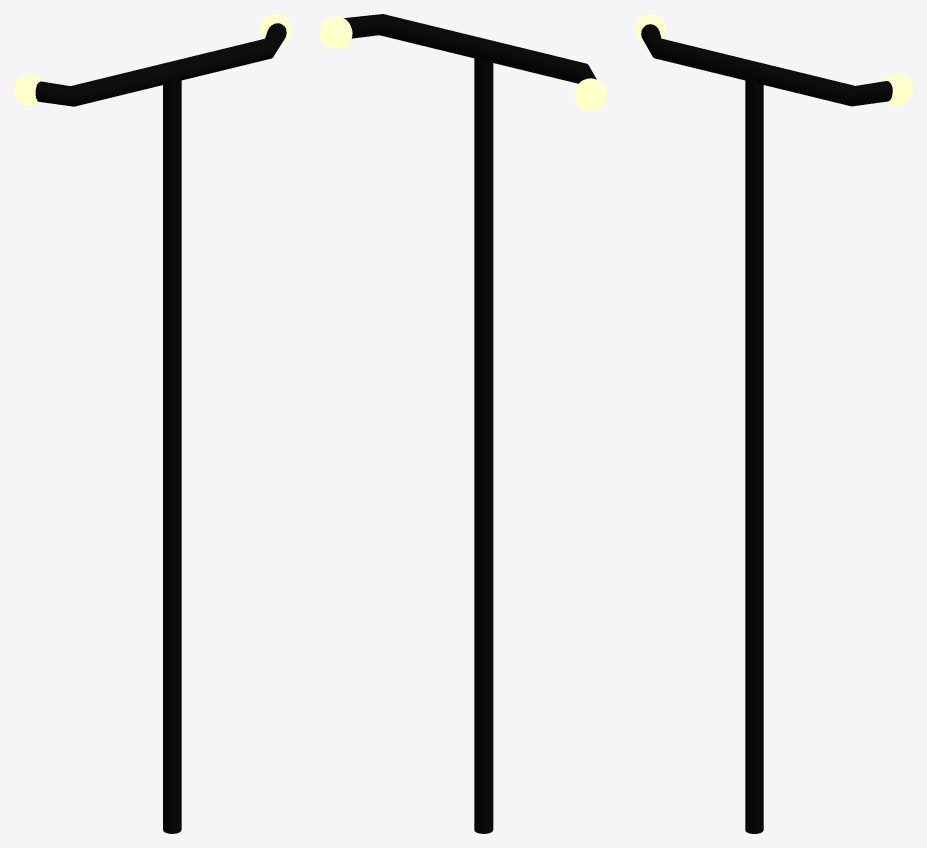
File: Course_Street_Light.fbx
3 renders of one model, left to right at view 1: azimuth 30°, elevation 25°; view 2: azimuth 150°, elevation 25°; view 3: azimuth 330°, elevation 25°, orthographic. The views are drawn at different scales.
Visible parts, largest first — view 1: Street_Light; view 2: Street_Light; view 3: Street_Light.
Part boxes in pixels (<box>): Street_Light: <box>14,14,291,833</box>; Street_Light: <box>320,14,606,833</box>; Street_Light: <box>635,14,912,833</box>.
Bounding box in the file's own units: 34.18 × 91.94 × 6.92.
